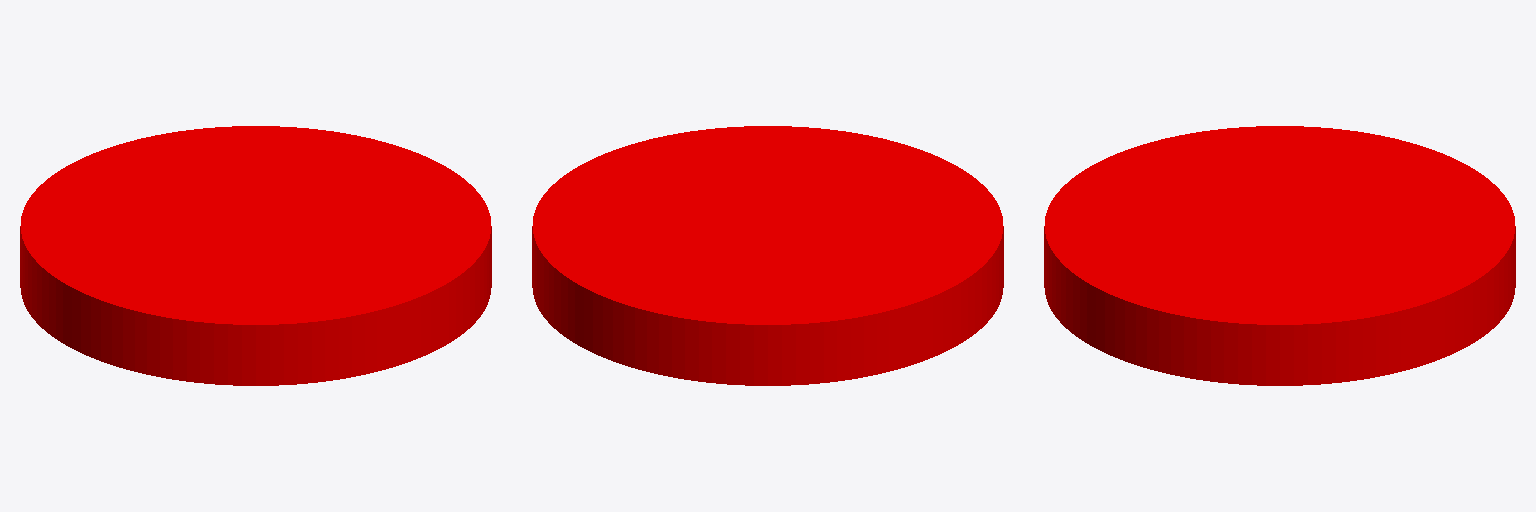
robot.urdf — FlatPalm_v2_35:
<robot name="FlatPalm_v2_35">
	<link name="object">
		<visual>
			<origin rpy="0.0 0.0 0.0" xyz="1.7310461327547491e-09 -2.1658735535716396e-18 -0.2" />
			<geometry>
				<mesh filename="FlatPalm_v2_35/FlatPalm_v2_35.obj" scale="0.020 0.020 0.020" />
			</geometry>
			<material name="texture">
				<color rgba="1.0 0.0 0.0 1.0" />
			</material>
		</visual>
		<collision>
			<origin rpy="0.0 0.0 0.0" xyz="1.7310461327547491e-09 -2.1658735535716396e-18 -0.2" />
			<geometry>
				<mesh filename="FlatPalm_v2_35/FlatPalm_v2_35_vhacd.obj" scale="0.020 0.020 0.020" />
			</geometry>
		</collision>
		<inertial>
			<mass value="1.0" />
			<inertia ixx="1.0" ixy="0.0" ixz="0.0" iyy="1.0" iyz="0.0" izz="1.0" />
		</inertial>
	</link>
</robot>

--- Render facts (derived) ---
Views: 3 orthographic renders of the robot side by side, from view 1: azimuth 30°, elevation 25°; view 2: azimuth 150°, elevation 25°; view 3: azimuth 270°, elevation 25°.
Robot: FlatPalm_v2_35 — 1 links, 0 joints (none); root link object; default pose: every joint at zero.
Links seen in each view (by area): view 1: object; view 2: object; view 3: object.
Boxes of the visible links, bbox=[...] form: object: bbox=[20, 126, 491, 385]; object: bbox=[532, 126, 1003, 385]; object: bbox=[1044, 126, 1515, 385].
Size in the robot's own frame: 1.4 by 1.4 by 0.2 metres.
1 mesh visuals loaded from 1 distinct referenced files (1 OBJ).